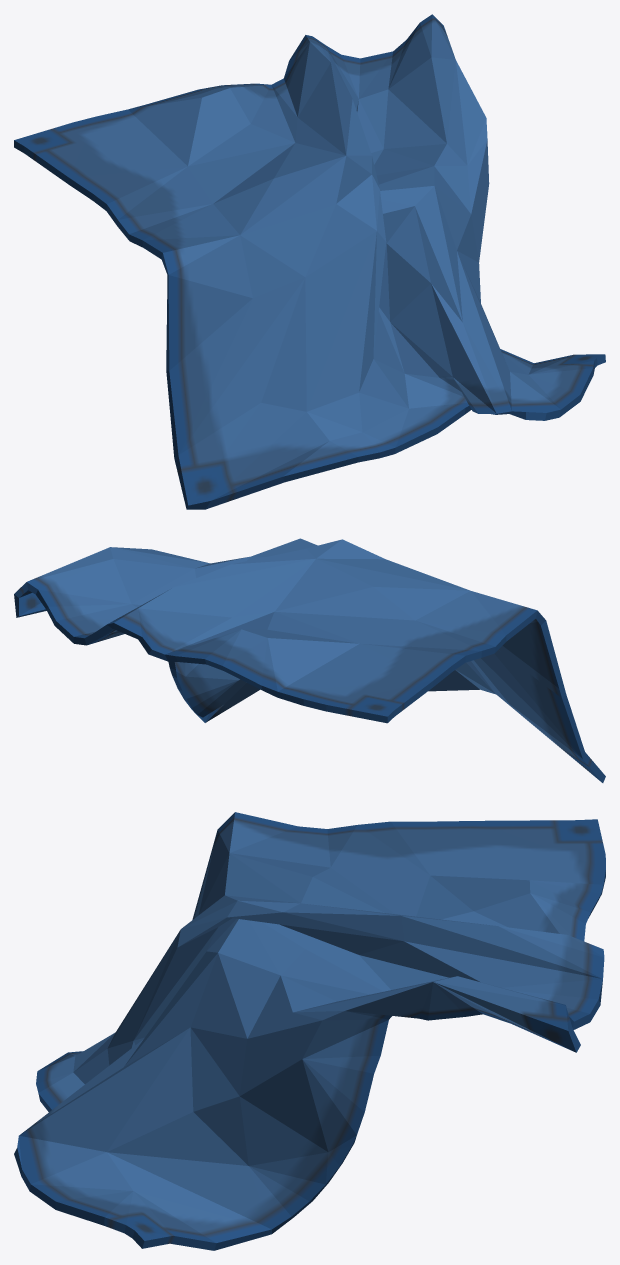
Rendered from SM_Prop_Concrete_Slab_Pile_02_Tarp.fbx.
The picture shows the model from 3 angles, top to bottom: view 1: azimuth 30°, elevation 25°; view 2: azimuth 150°, elevation 25°; view 3: azimuth 270°, elevation 25°; orthographic projection. The views are drawn at different scales.
Parts seen in each view (by area): view 1: SM_Prop_Concrete_Slab_Pile_02_Tarp; view 2: SM_Prop_Concrete_Slab_Pile_02_Tarp; view 3: SM_Prop_Concrete_Slab_Pile_02_Tarp.
Part boxes in pixels (box(x1,y1,x2,y2)): SM_Prop_Concrete_Slab_Pile_02_Tarp: box(14, 14, 605, 509); SM_Prop_Concrete_Slab_Pile_02_Tarp: box(14, 538, 605, 782); SM_Prop_Concrete_Slab_Pile_02_Tarp: box(14, 812, 605, 1250).
Bounding box in the file's own units: 162 × 88.3 × 159.
